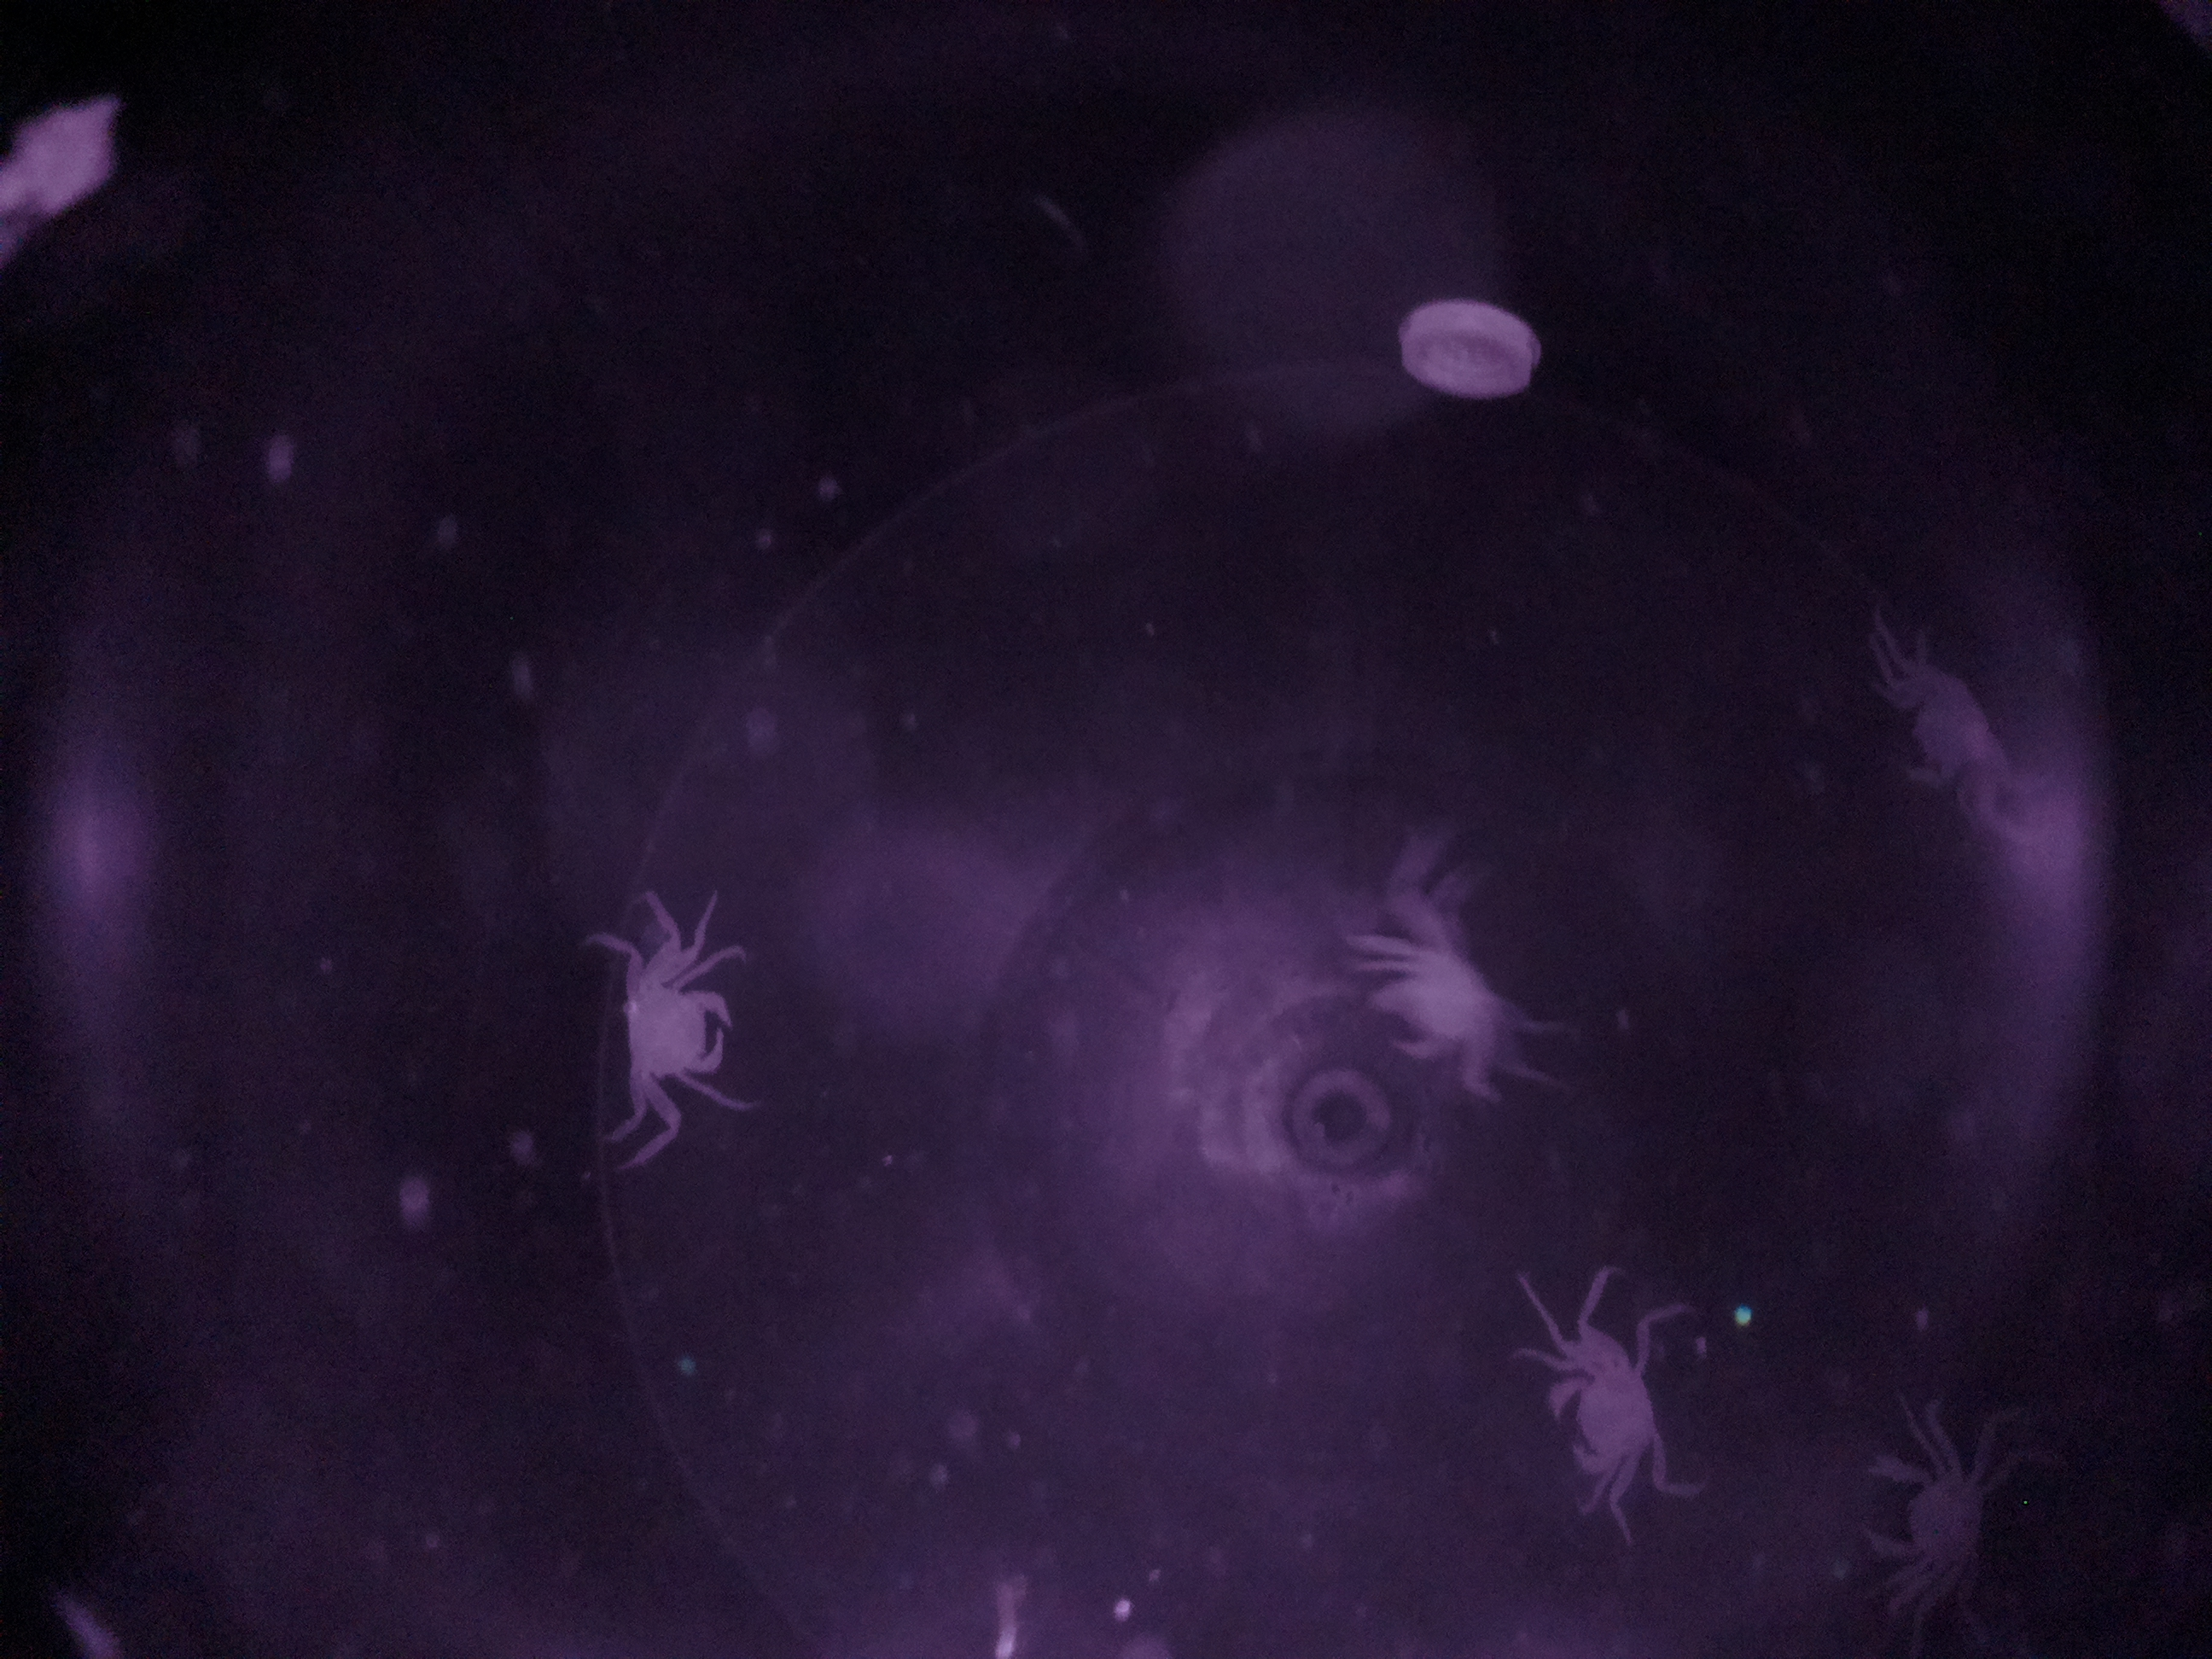Crab: (1543, 1303, 1681, 1516), (603, 950, 773, 1117), (1850, 1438, 2006, 1608)
